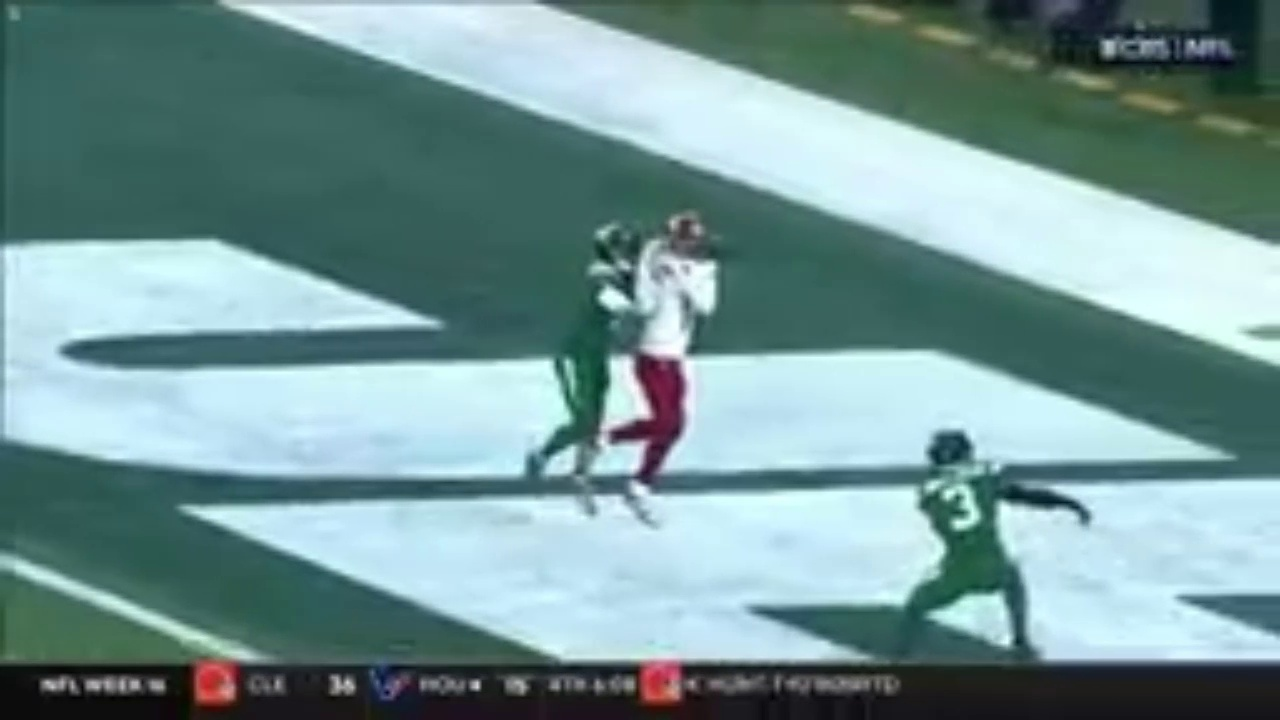interference: (605, 264, 686, 326)
